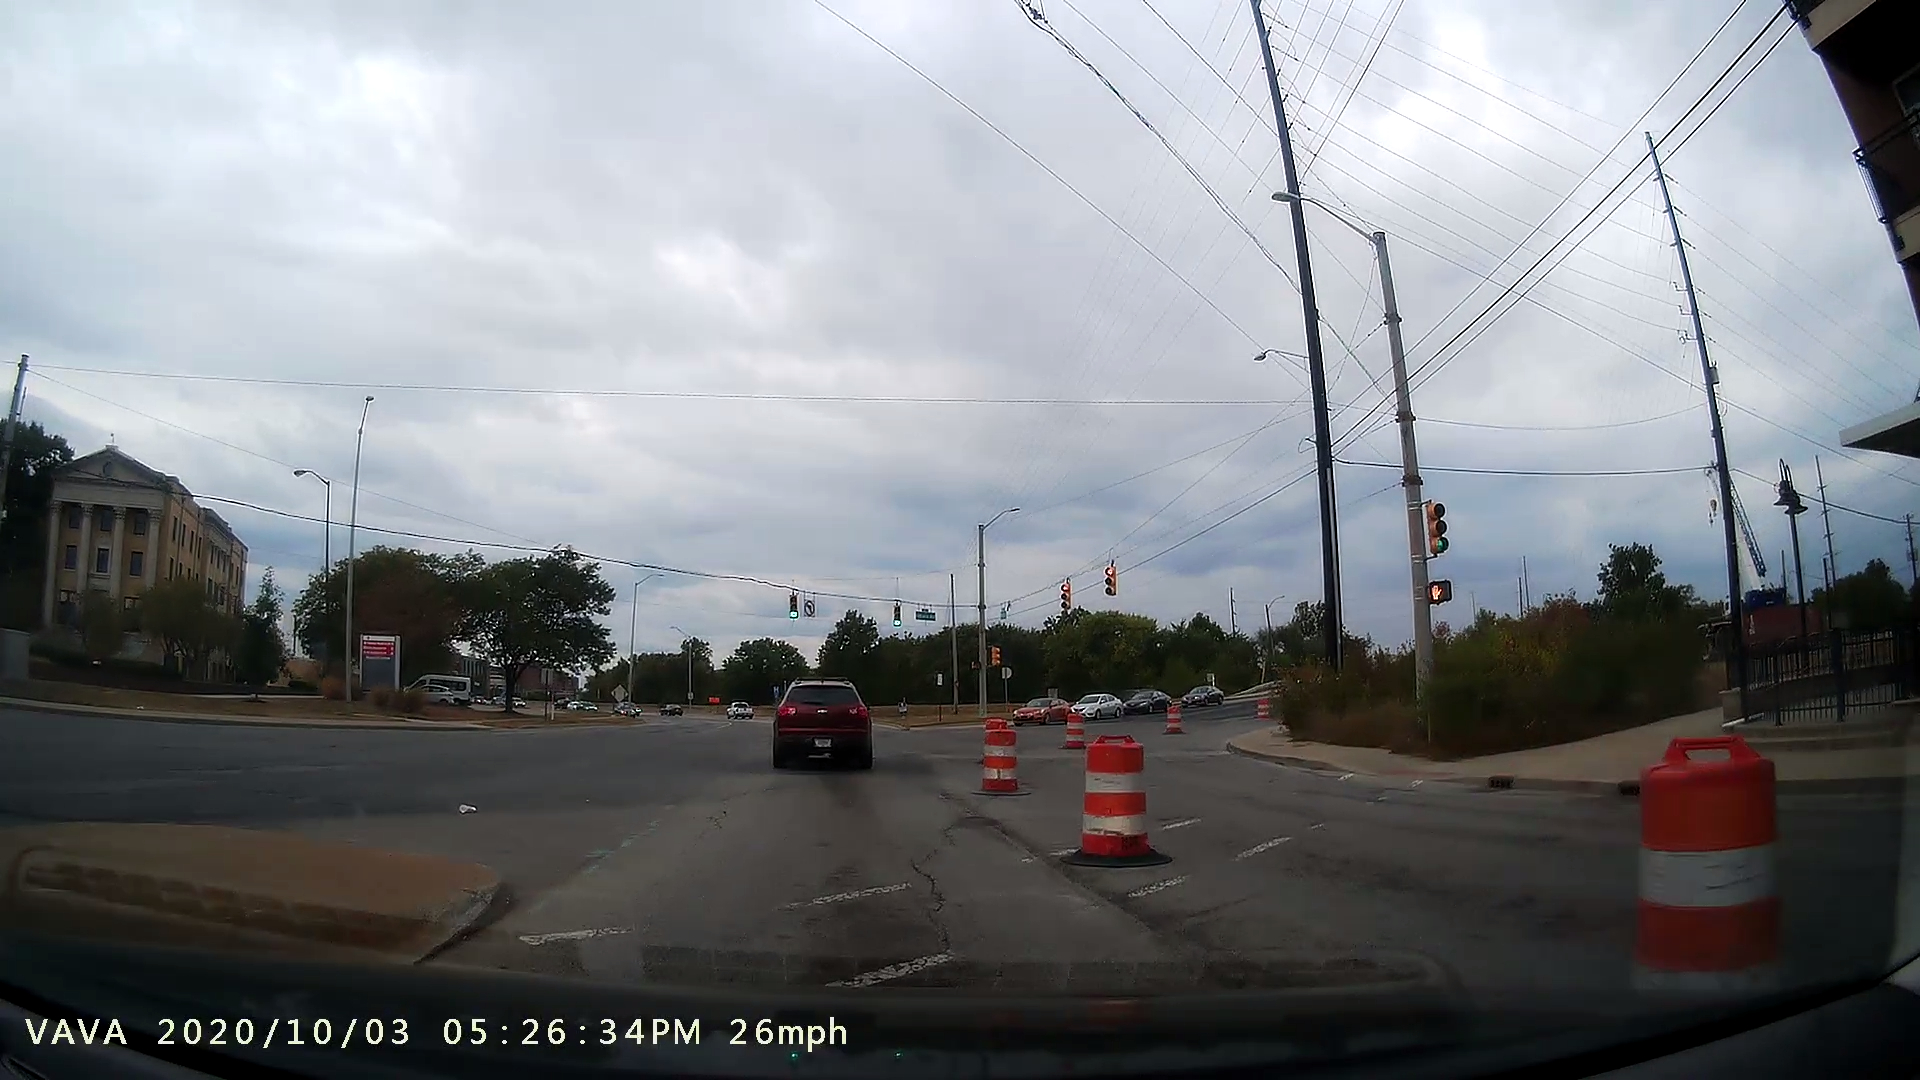const_barrel: (1062, 735, 1164, 870), (957, 713, 1034, 796)
